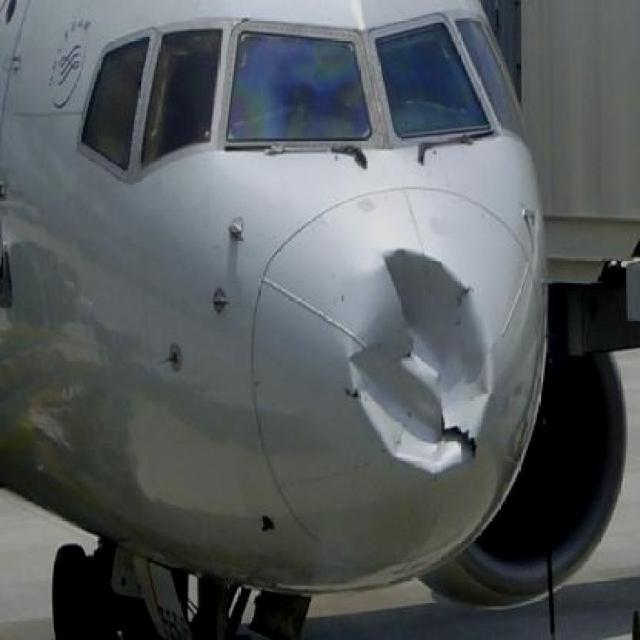dent: (332, 240, 503, 486)
